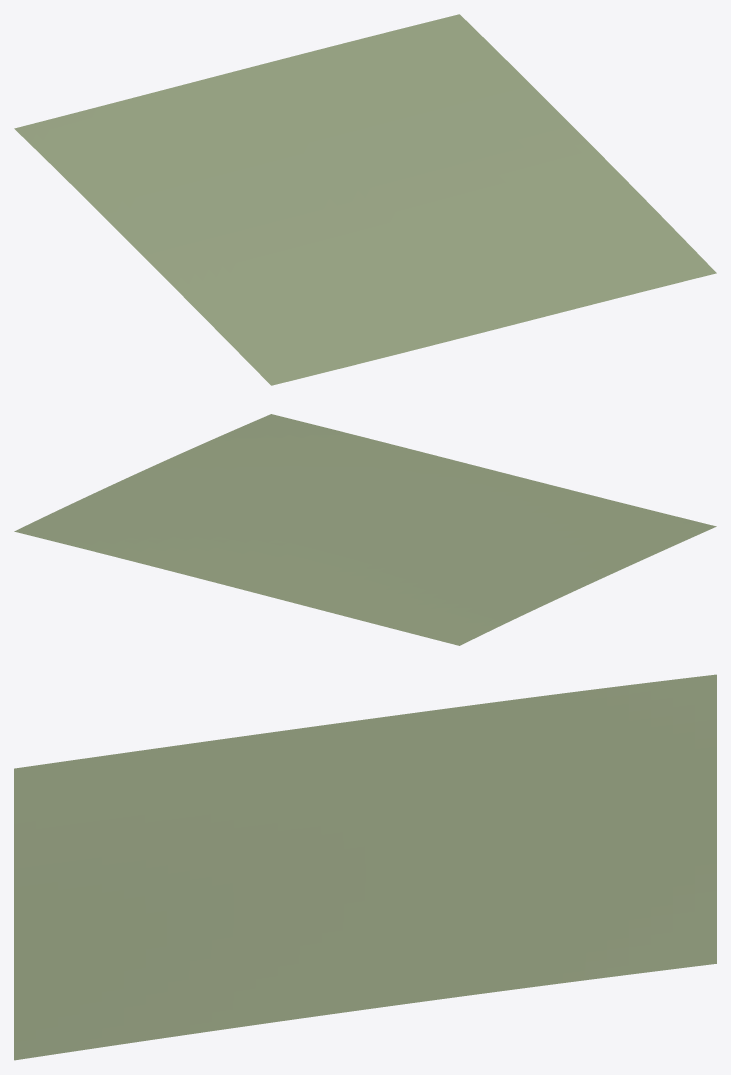
File: desert-27-10.glb
3 renders of one model, top to bottom at view 1: azimuth 30°, elevation 25°; view 2: azimuth 150°, elevation 25°; view 3: azimuth 270°, elevation 25°, orthographic. The views are drawn at different scales.
Parts seen in each view (by area): view 1: desert-27-10; view 2: desert-27-10; view 3: desert-27-10.
Boxes of the visible parts, bbox=[...] form: desert-27-10: bbox=[14, 14, 716, 385]; desert-27-10: bbox=[14, 414, 716, 645]; desert-27-10: bbox=[14, 674, 716, 1060].
Size of the model in its own units: 512 by 81.86 by 512.
